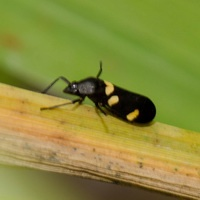insect: (41, 61, 155, 122)
